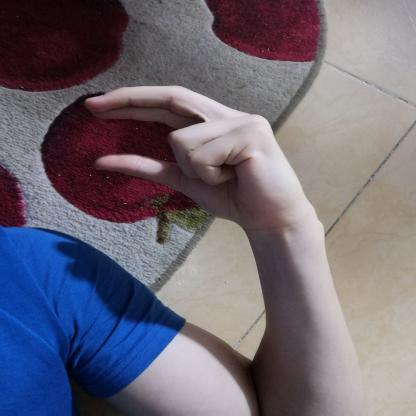DHELL: (73, 74, 323, 235)
